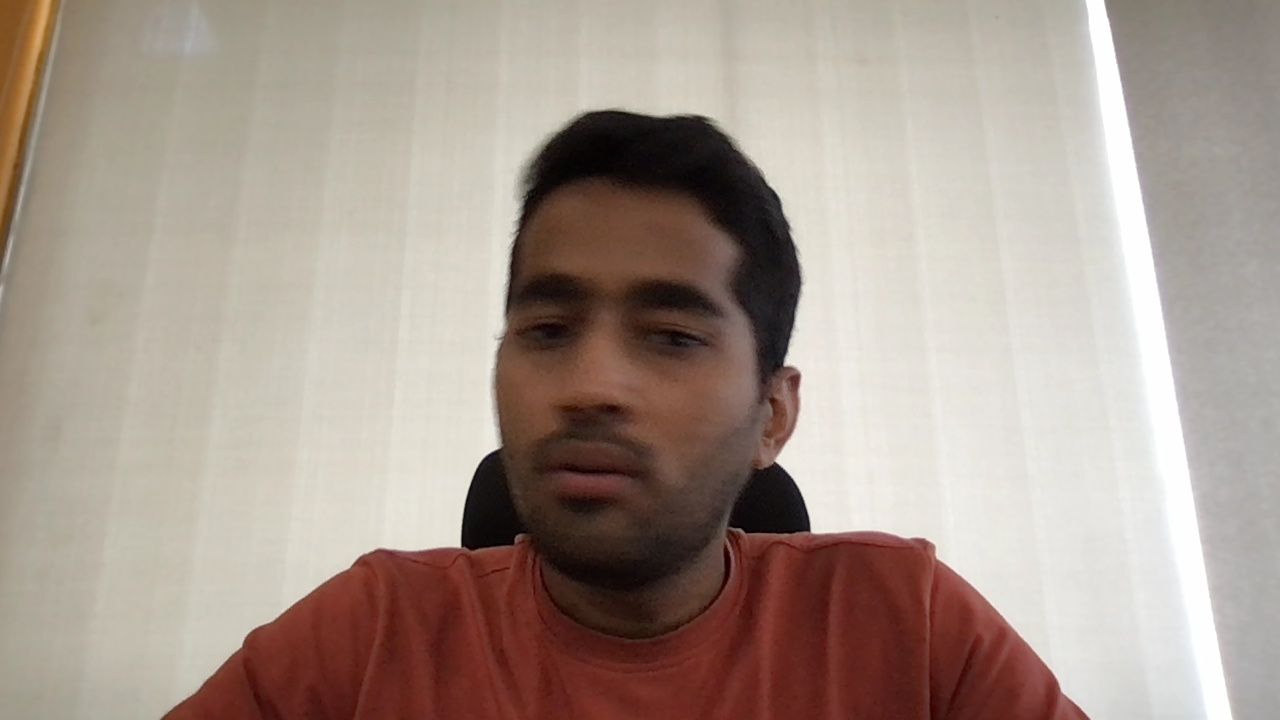no-mask: (489, 363, 767, 588)
